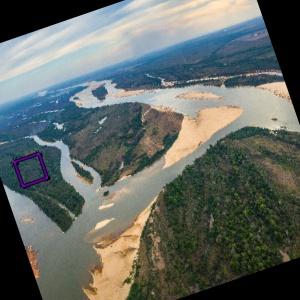square: (11, 150, 52, 189)
